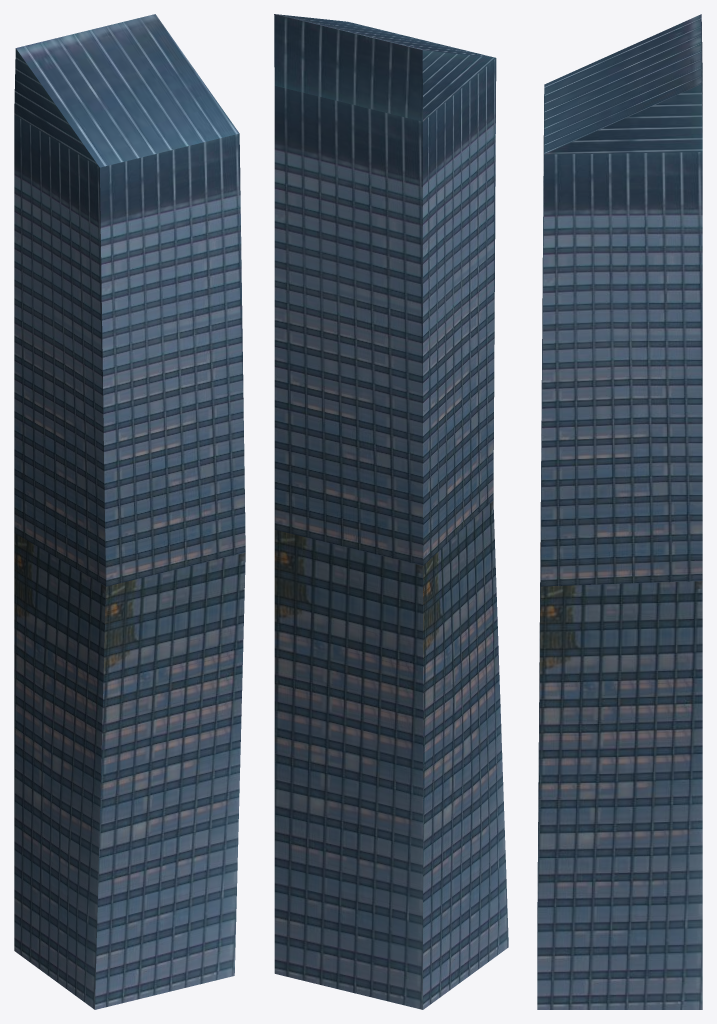
File: lic_tower_glass_d.glb
3 renders of one model, left to right at view 1: azimuth 30°, elevation 25°; view 2: azimuth 150°, elevation 25°; view 3: azimuth 270°, elevation 25°, orthographic. The views are drawn at different scales.
Visible parts, largest first — view 1: building; view 2: building; view 3: building.
Boxes of the visible parts, x1,y1,x2,y2 form: building: (14, 14, 245, 1009); building: (274, 14, 508, 1009); building: (537, 14, 702, 1009).
Bounding box in the file's own units: 24.75 × 140 × 22.68.
Materials: 1 (1 with a texture image).
